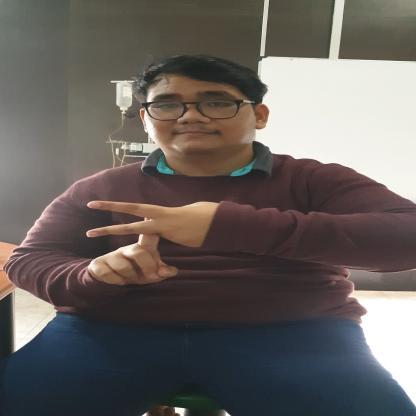F: (83, 199, 200, 287)
